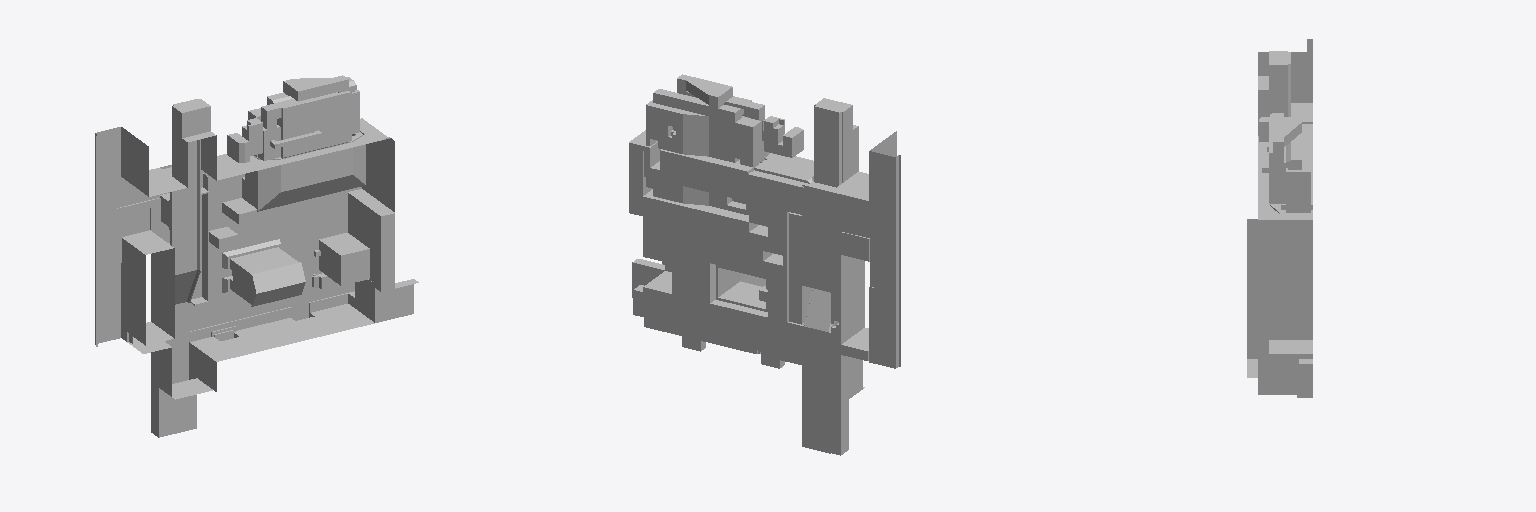
Rendered from Assault.obj.
3 views of the same model, side by side, from view 1: azimuth 30°, elevation 25°; view 2: azimuth 150°, elevation 25°; view 3: azimuth 270°, elevation 25° (orthographic).
Parts seen in each view (by area): view 1: BSP_Object.model_0; view 2: BSP_Object.model_0; view 3: BSP_Object.model_0.
Boxes of the visible parts, x1,y1,x2,y2 form: BSP_Object.model_0: [95, 75, 418, 437]; BSP_Object.model_0: [629, 74, 900, 455]; BSP_Object.model_0: [1247, 39, 1312, 397].
Bounding box in the file's own units: 97.6 × 106 × 19.2.